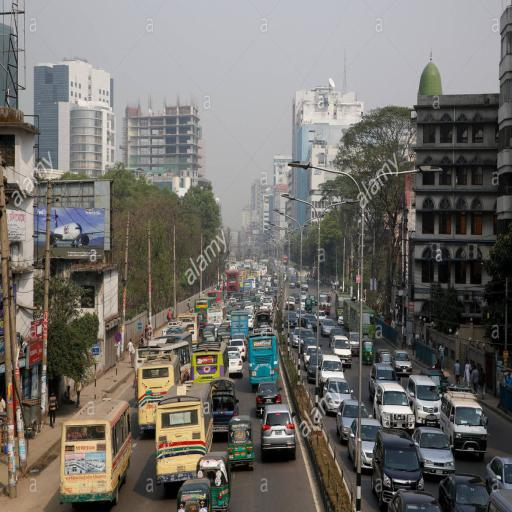army vehicle: (213, 380, 241, 442), (256, 310, 271, 328)
bus: (60, 397, 131, 505), (155, 385, 215, 484), (137, 356, 181, 434), (136, 337, 192, 383), (249, 326, 280, 390), (191, 343, 229, 382), (351, 305, 376, 342), (177, 313, 200, 342), (344, 299, 364, 331), (156, 328, 195, 344), (196, 297, 218, 322), (336, 292, 352, 321), (207, 304, 227, 322), (227, 270, 240, 295), (163, 322, 189, 334), (320, 290, 332, 316), (209, 291, 225, 301), (297, 272, 307, 288), (286, 266, 295, 278), (244, 280, 254, 290), (232, 262, 242, 269), (261, 266, 267, 276), (244, 262, 252, 269)
car: (348, 417, 386, 476), (413, 426, 457, 473), (439, 473, 490, 512), (336, 400, 374, 443), (388, 490, 443, 512), (324, 377, 355, 416), (256, 380, 283, 413), (487, 456, 512, 491), (420, 369, 451, 389), (393, 351, 414, 376), (304, 345, 323, 370), (308, 353, 323, 384), (230, 339, 248, 361), (228, 352, 243, 378), (321, 318, 338, 335), (293, 326, 303, 348), (315, 311, 328, 324), (233, 334, 249, 344), (249, 316, 256, 332), (292, 293, 300, 303), (230, 298, 237, 303)
minivan: (373, 428, 426, 510), (318, 354, 346, 392), (331, 335, 353, 368), (286, 297, 296, 311), (263, 298, 275, 308), (300, 292, 307, 302), (245, 307, 255, 314)
suv: (260, 405, 297, 463), (374, 382, 417, 430), (406, 375, 443, 429), (369, 362, 402, 401), (286, 311, 299, 329), (255, 293, 266, 299)
three wheelers (CNG): (198, 452, 232, 510), (229, 417, 255, 472), (178, 480, 213, 510), (424, 370, 443, 393), (362, 338, 374, 367), (377, 349, 393, 364), (221, 333, 232, 344), (202, 331, 215, 340), (306, 298, 314, 312), (309, 295, 316, 308), (306, 299, 312, 312), (204, 322, 215, 326)
truck: (231, 311, 249, 337), (284, 257, 288, 265)
van: (441, 387, 490, 462), (301, 280, 309, 291), (289, 277, 296, 288)
